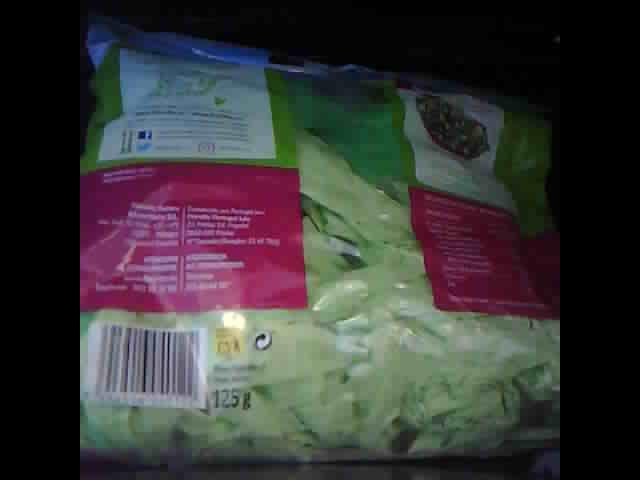florette: (83, 14, 560, 459)
